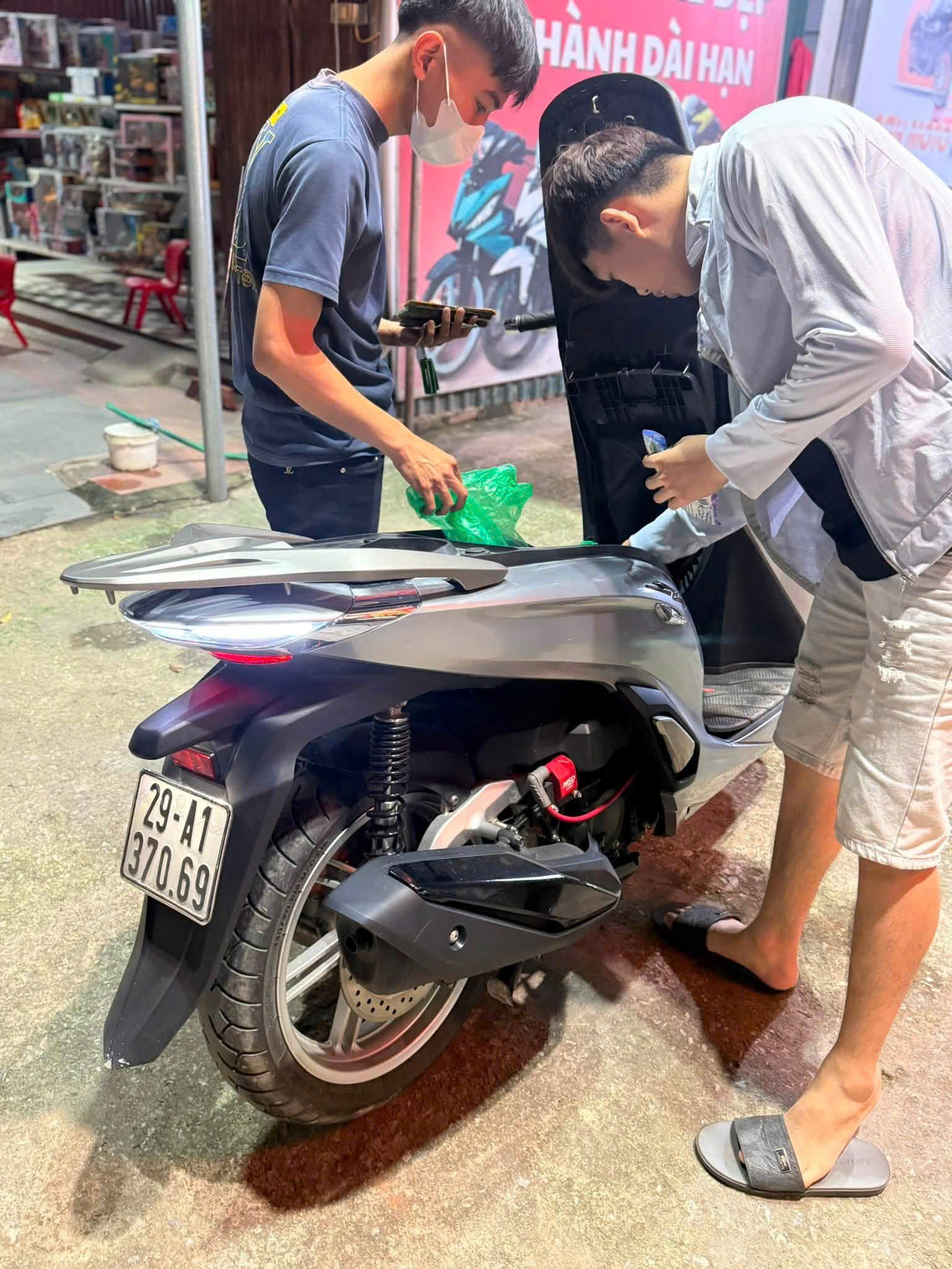Bien-so: (118, 771, 239, 923)
